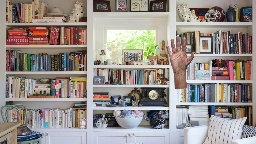Mano_aperta: (164, 33, 195, 71)
